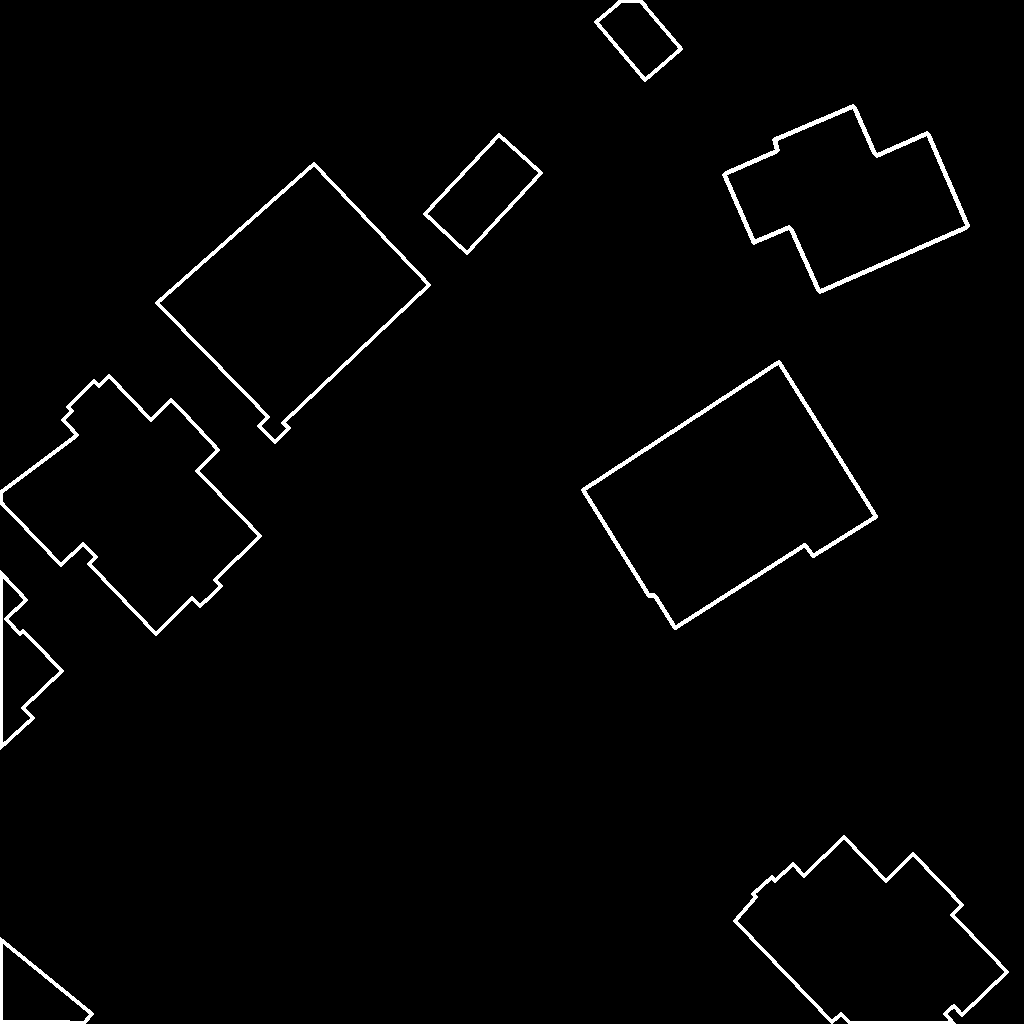building: (583, 362, 877, 629), (157, 164, 430, 443), (0, 376, 261, 635), (735, 837, 1008, 1024), (724, 106, 969, 293), (425, 135, 542, 254), (0, 572, 63, 749), (0, 939, 93, 1024), (596, 0, 682, 81)
